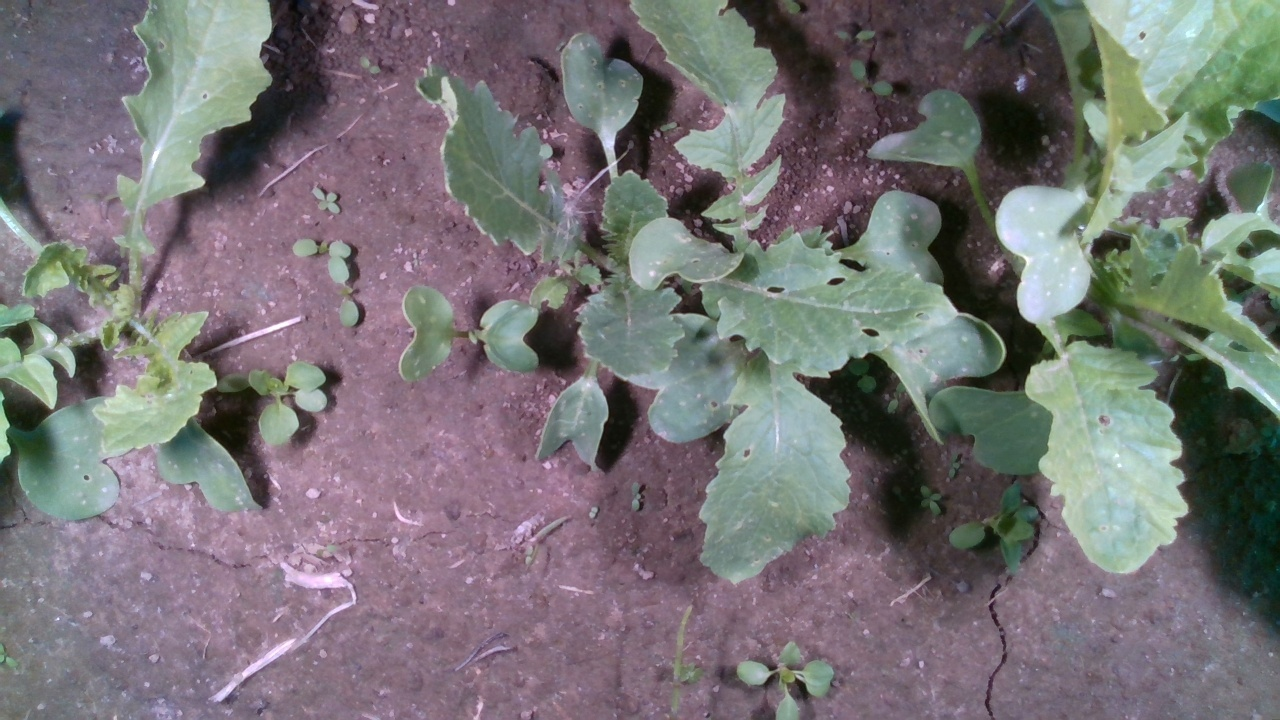weed: (849, 58, 896, 97), (310, 184, 344, 216), (917, 484, 943, 517), (358, 53, 382, 76), (832, 29, 878, 41), (630, 479, 642, 513), (586, 505, 598, 520)
